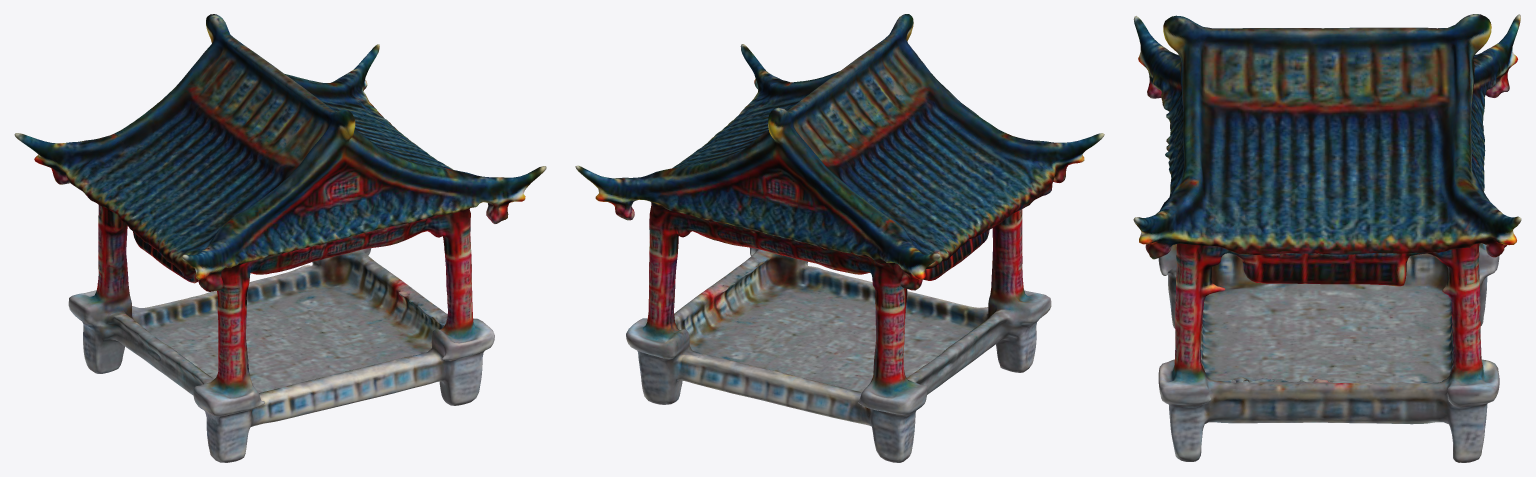
Rendered from shuixie_glb.glb.
3 views of the same model, side by side, from view 1: azimuth 30°, elevation 25°; view 2: azimuth 150°, elevation 25°; view 3: azimuth 270°, elevation 25° (orthographic). The views are drawn at different scales.
Visible parts, largest first — view 1: geometry_0; view 2: geometry_0; view 3: geometry_0.
Boxes of the visible parts, left/top/right/bottom form: geometry_0: left=14, top=14, right=546, bottom=462; geometry_0: left=575, top=14, right=1104, bottom=462; geometry_0: left=1133, top=14, right=1521, bottom=462.
Bounding box in the file's own units: 0.473 × 0.4033 × 0.3773.
Materials: 1 (1 with a texture image).
